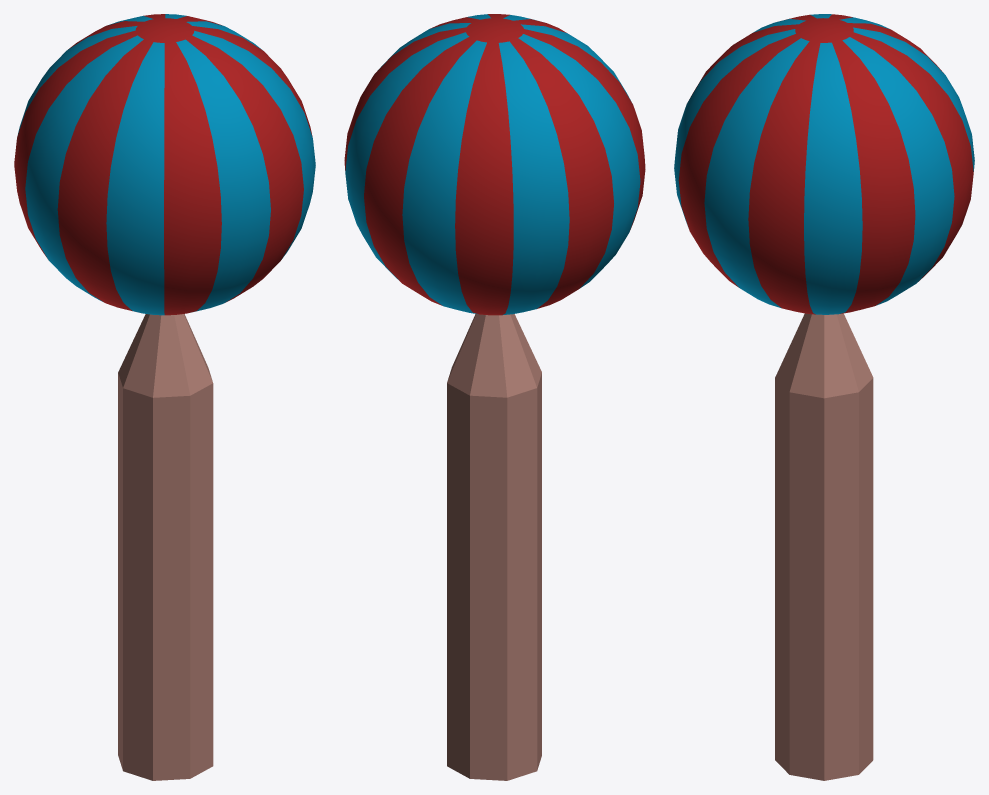
Rendered from Tower02.fbx.
The picture shows the model from 3 angles, left to right: view 1: azimuth 30°, elevation 25°; view 2: azimuth 150°, elevation 25°; view 3: azimuth 270°, elevation 25°; orthographic projection.
Visible parts, largest first — view 1: Cylinder.001, Cylinder; view 2: Cylinder.001, Cylinder; view 3: Cylinder.001, Cylinder.
Boxes of the visible parts, left/top/right/bottom form: Cylinder.001: left=14, top=14, right=315, bottom=315; Cylinder: left=118, top=314, right=213, bottom=780; Cylinder.001: left=344, top=14, right=645, bottom=315; Cylinder: left=447, top=314, right=541, bottom=780; Cylinder.001: left=674, top=14, right=974, bottom=314; Cylinder: left=775, top=313, right=873, bottom=780.
Bounding box in the file's own units: 612 × 1643 × 612.
